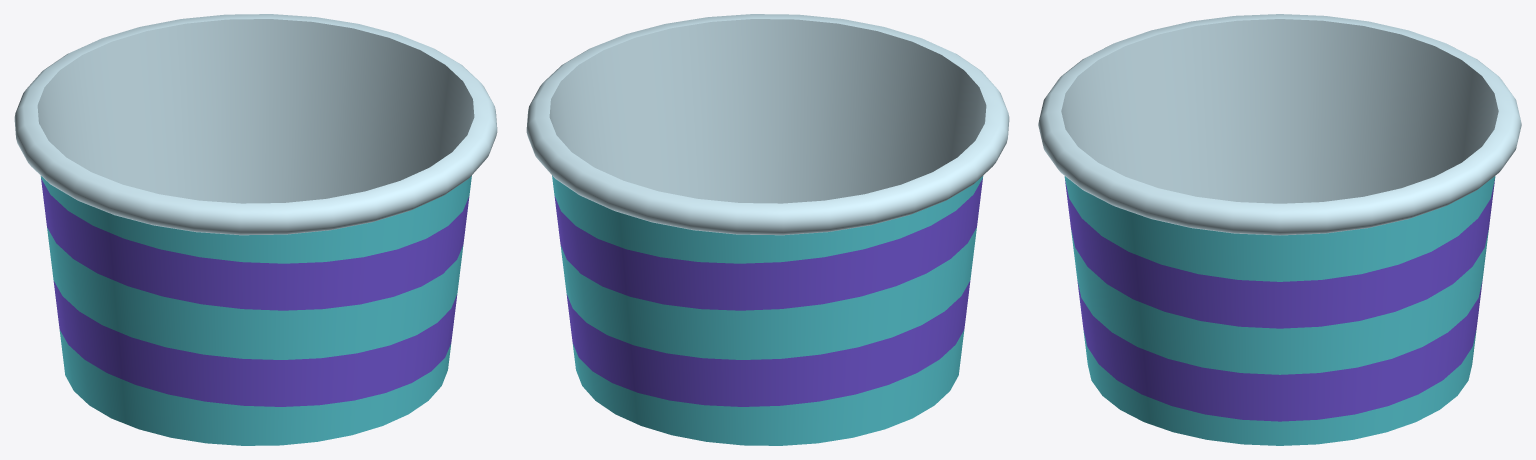
Rendered from Cup Ice Cream H.fbx.
3 renders of one model, left to right at view 1: azimuth 30°, elevation 25°; view 2: azimuth 150°, elevation 25°; view 3: azimuth 270°, elevation 25°, orthographic.
Parts seen in each view (by area): view 1: Cup Ice Cream H; view 2: Cup Ice Cream H; view 3: Cup Ice Cream H.
Boxes of the visible parts, left/top/right/bottom form: Cup Ice Cream H: left=14, top=14, right=497, bottom=445; Cup Ice Cream H: left=526, top=14, right=1009, bottom=445; Cup Ice Cream H: left=1038, top=14, right=1521, bottom=445.
Size of the model in its own units: 0.7274 by 0.4205 by 0.7274.
